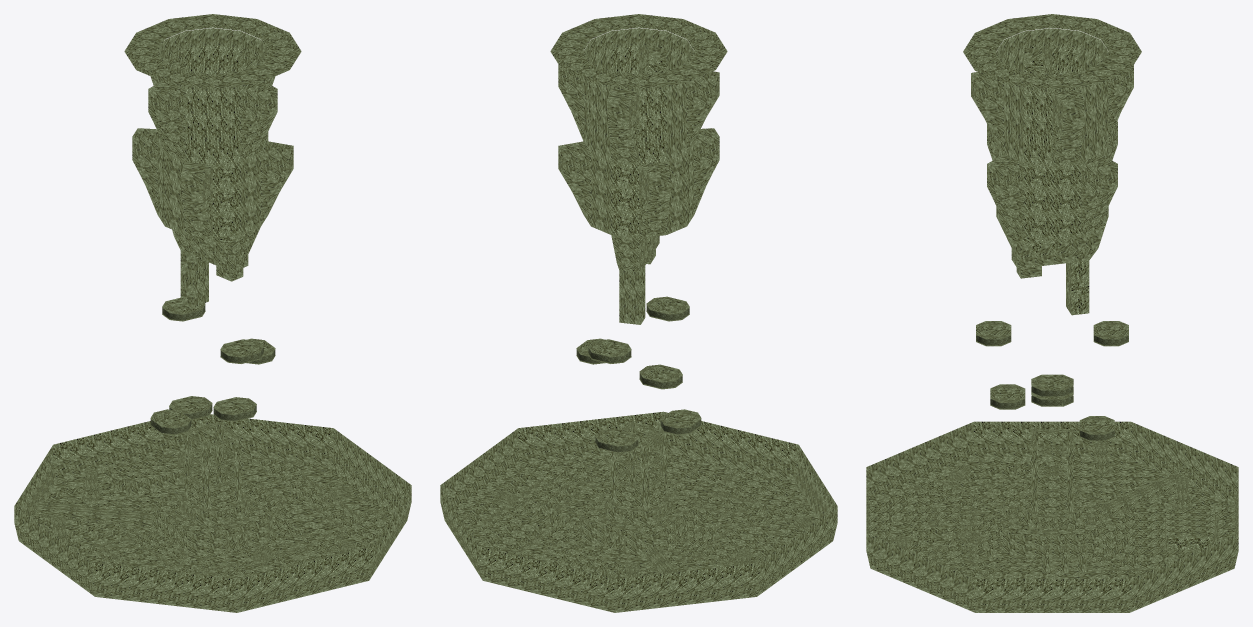
3 views of the same model, side by side, from view 1: azimuth 30°, elevation 25°; view 2: azimuth 150°, elevation 25°; view 3: azimuth 270°, elevation 25° (orthographic).
Bounding box in the file's own units: 3192 × 5180 × 3192.
1 material, 1 textured.
